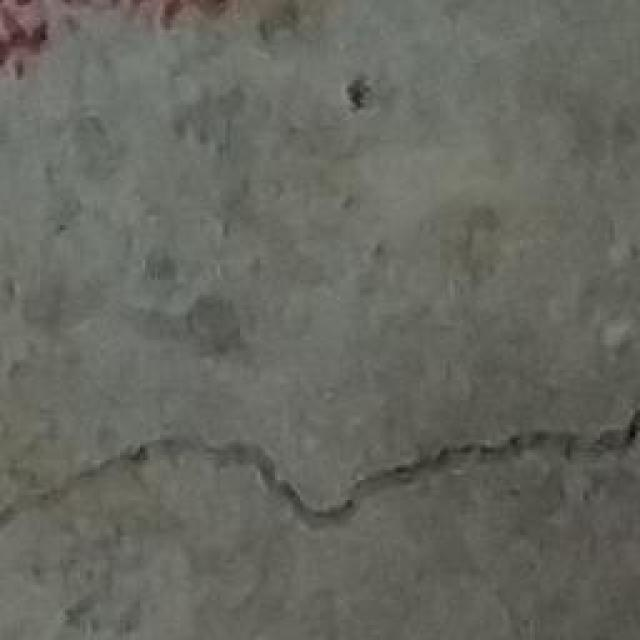Transverse: (7, 395, 640, 568)
